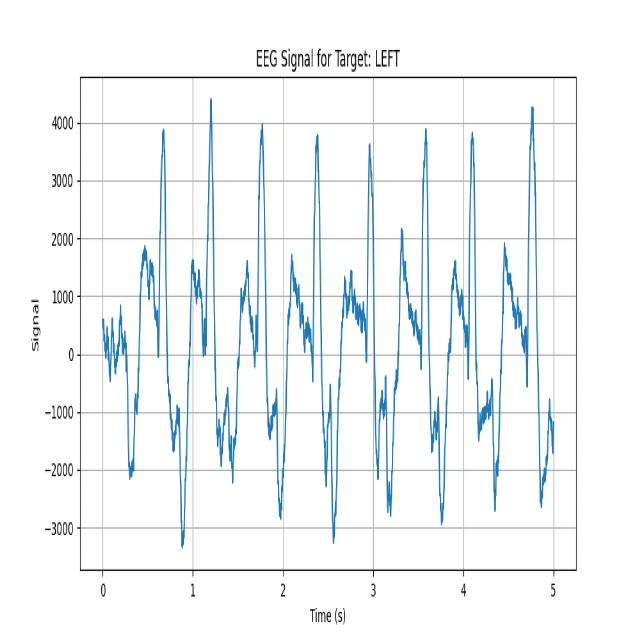LEFT: (459, 93, 520, 547), (184, 92, 243, 554), (243, 91, 299, 552), (299, 93, 355, 553), (126, 122, 185, 548), (407, 93, 461, 544), (355, 93, 408, 547)
